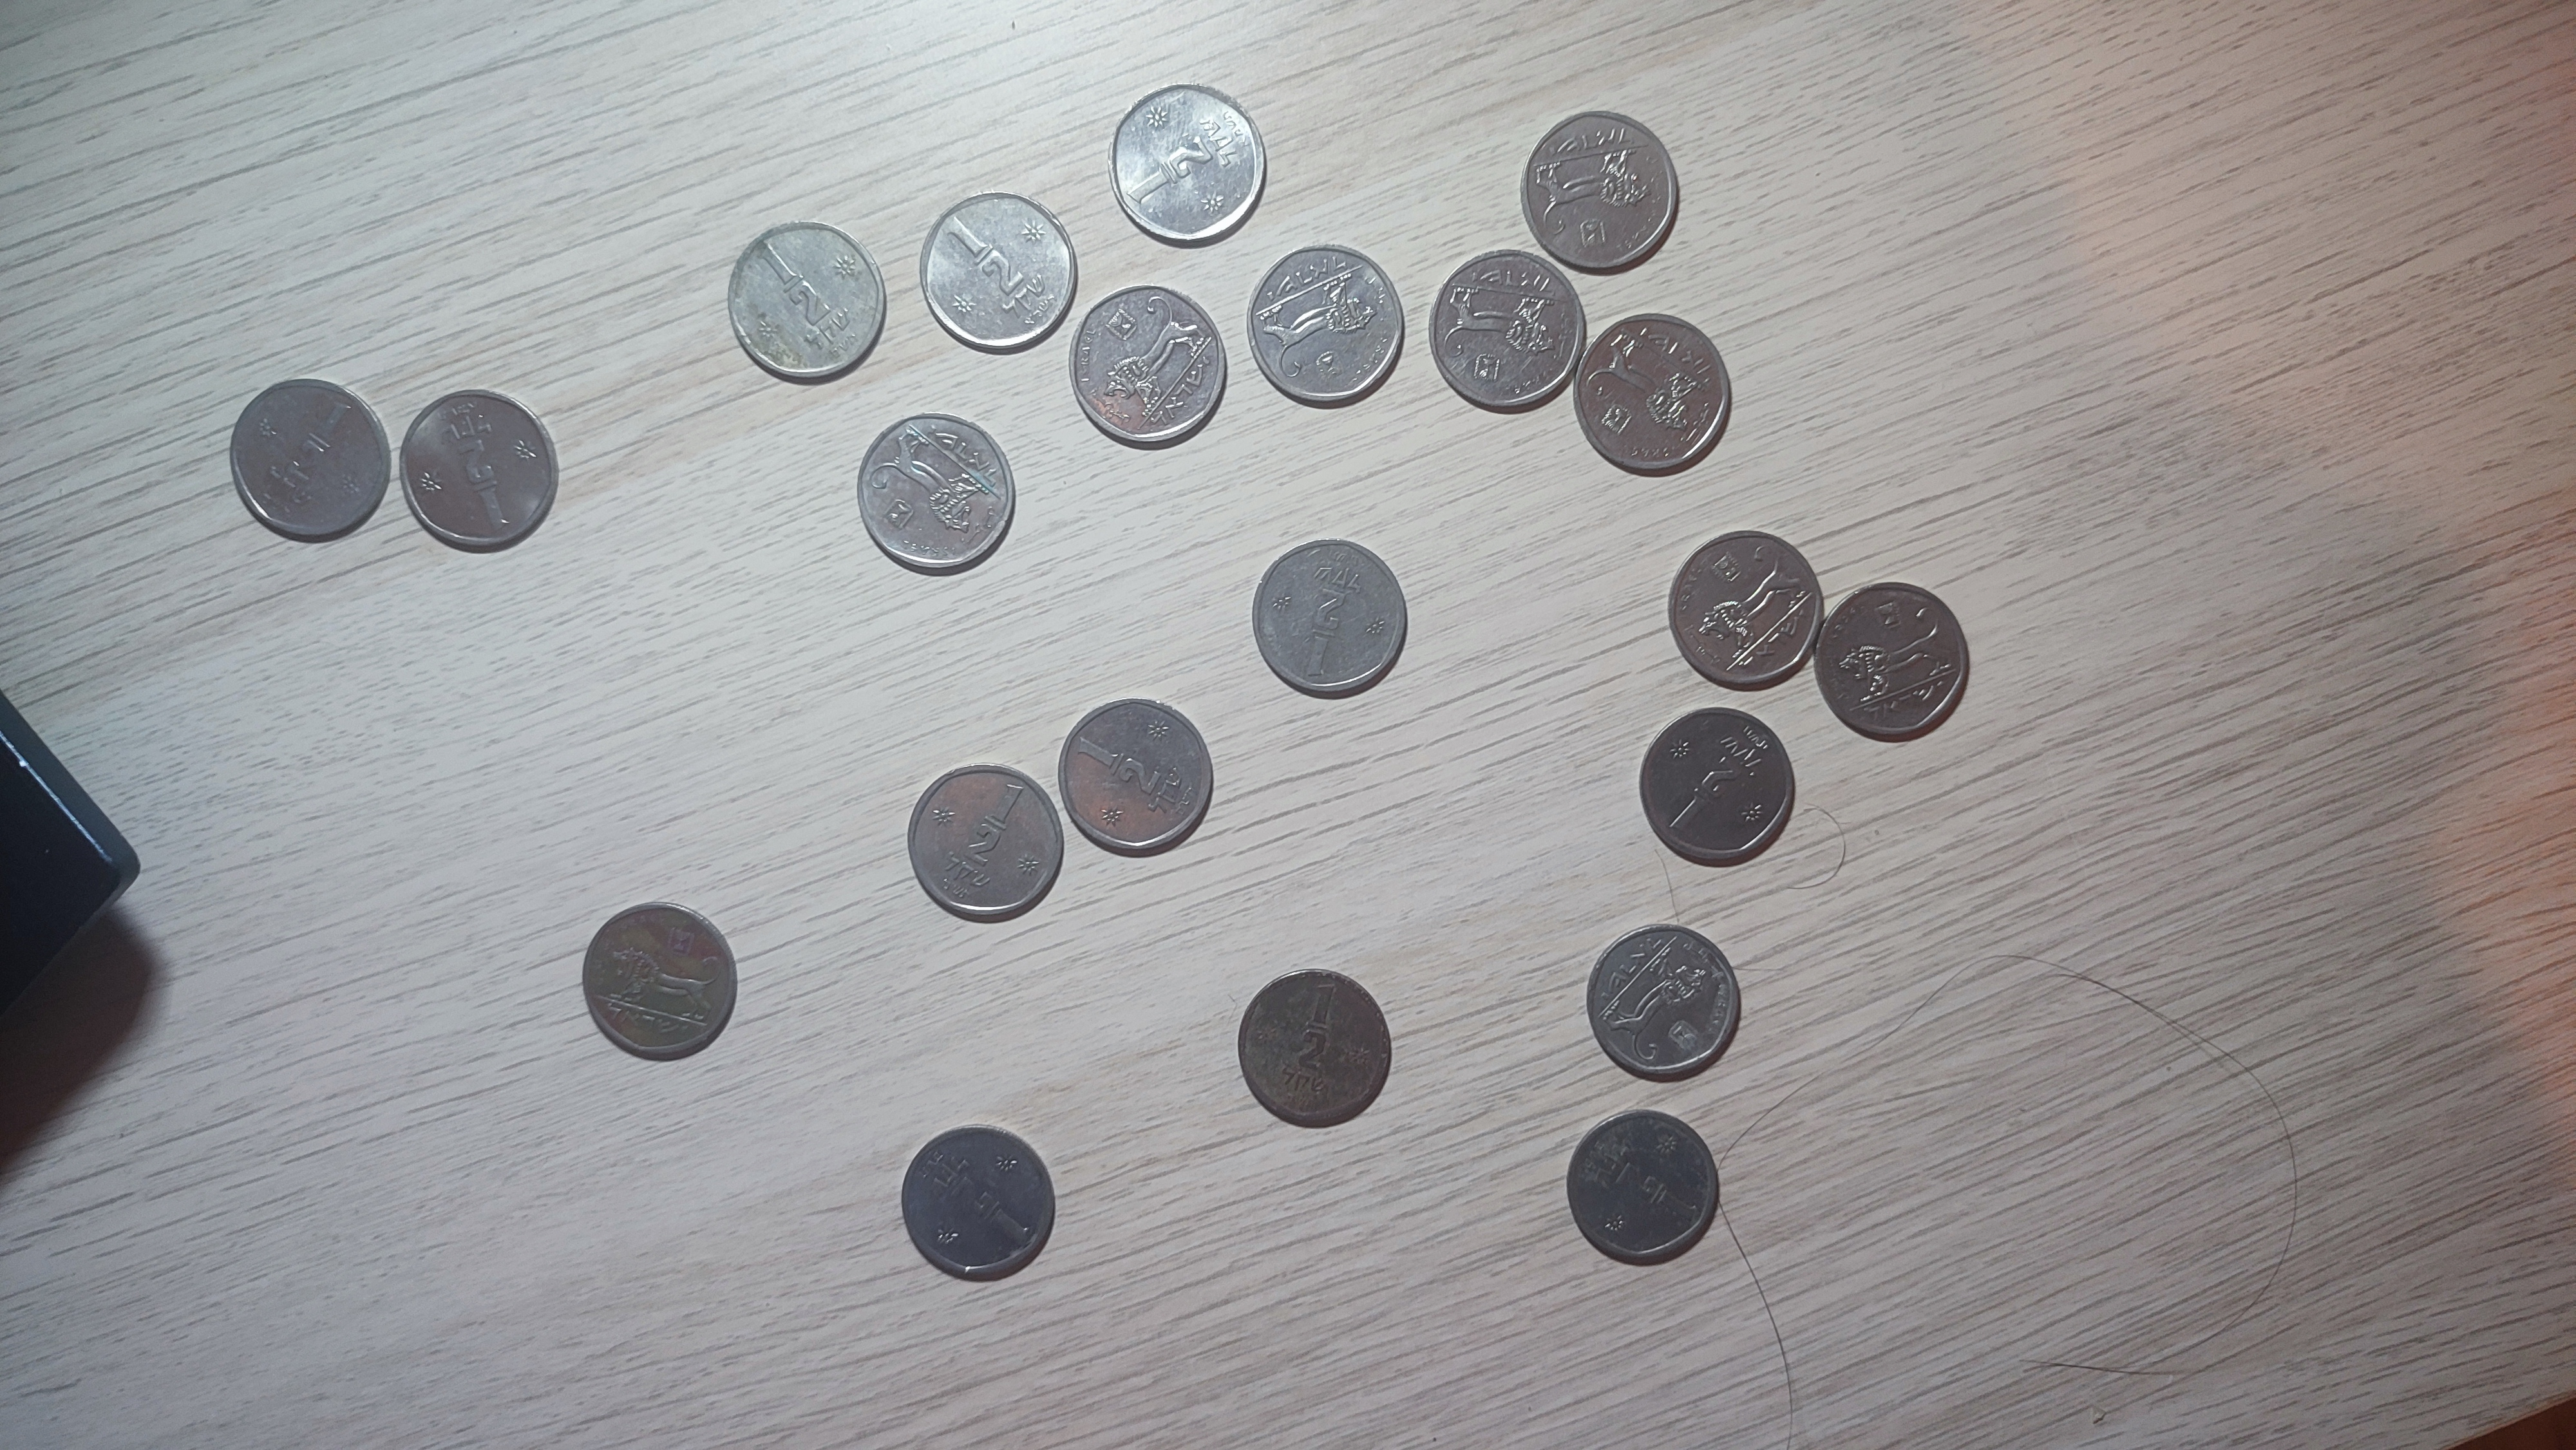1/2 old sheqel: (1518, 108, 1683, 278), (853, 410, 1019, 575), (1246, 242, 1410, 405), (226, 377, 393, 538), (1426, 246, 1589, 408), (904, 762, 1067, 925), (1106, 81, 1267, 246), (1067, 281, 1228, 446), (398, 387, 559, 550), (1237, 965, 1394, 1132), (918, 189, 1079, 350), (1571, 313, 1734, 472), (1667, 529, 1826, 690), (580, 902, 740, 1061), (899, 1123, 1058, 1282), (727, 221, 888, 378), (1638, 706, 1799, 863), (1251, 538, 1408, 697), (1813, 580, 1971, 737), (1056, 697, 1215, 852), (1564, 1107, 1721, 1263), (1585, 923, 1743, 1077)
